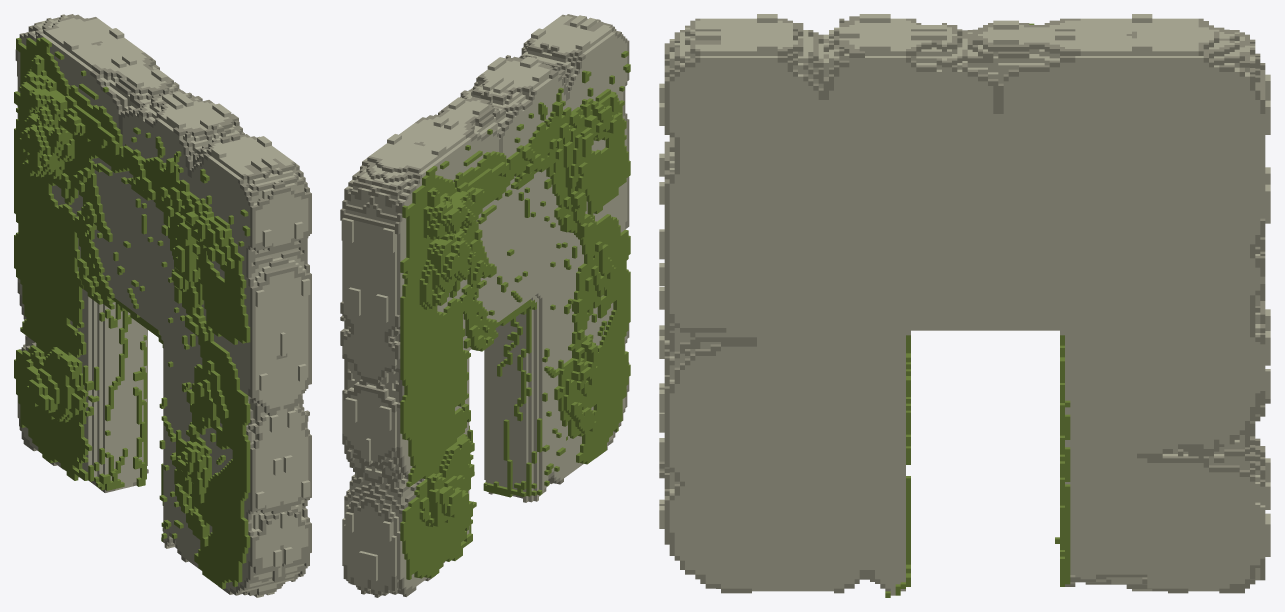
Rendered from forest1.3-18.obj.
3 views of the same model, side by side, from view 1: azimuth 30°, elevation 25°; view 2: azimuth 150°, elevation 25°; view 3: azimuth 270°, elevation 25° (orthographic). The views are drawn at different scales.
Bounding box in the file's own units: 2.4 × 11.8 × 11.9.
1 material, 1 textured.
